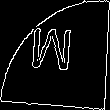M_S: (31, 28, 79, 82)
